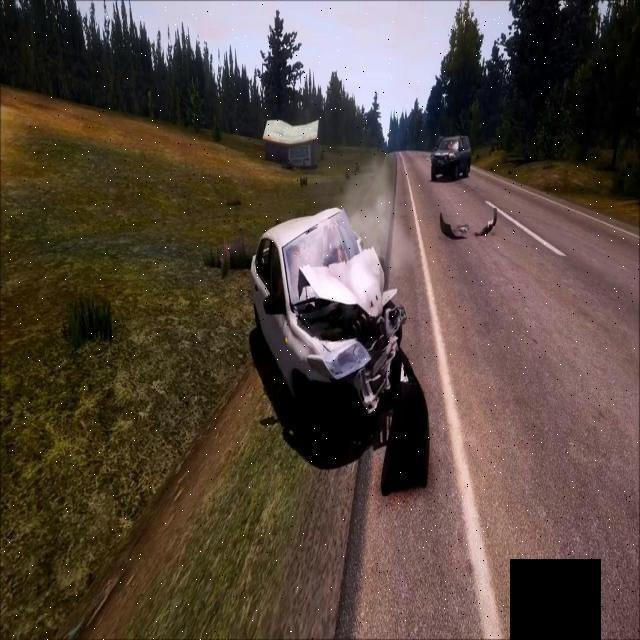multiple_accident: (222, 187, 470, 482), (377, 102, 523, 180)
